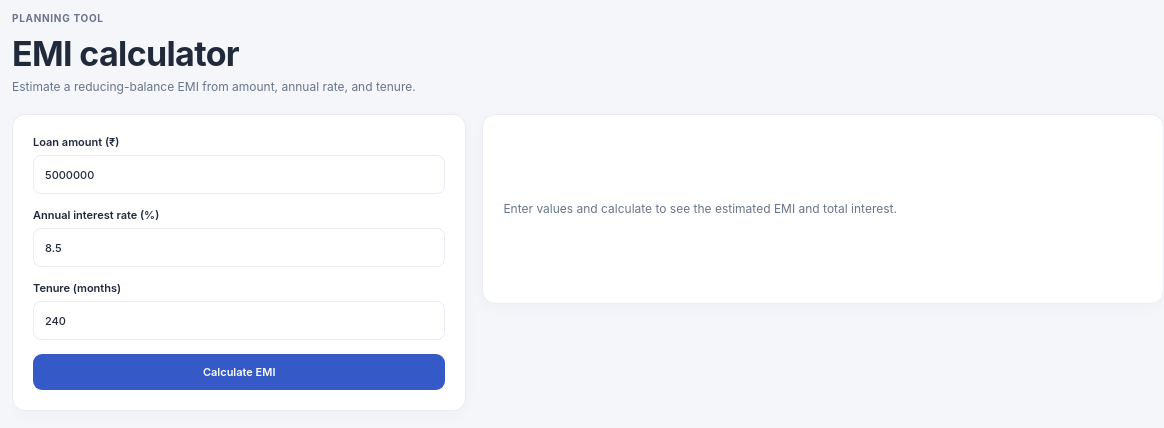
Test: planning tools › calculates the known EMI and total interest in the standalone calculator
This screenshot has width=1164, height=428.
Click the button "Calculate EMI" at [239, 372], box [33,354,445,390]
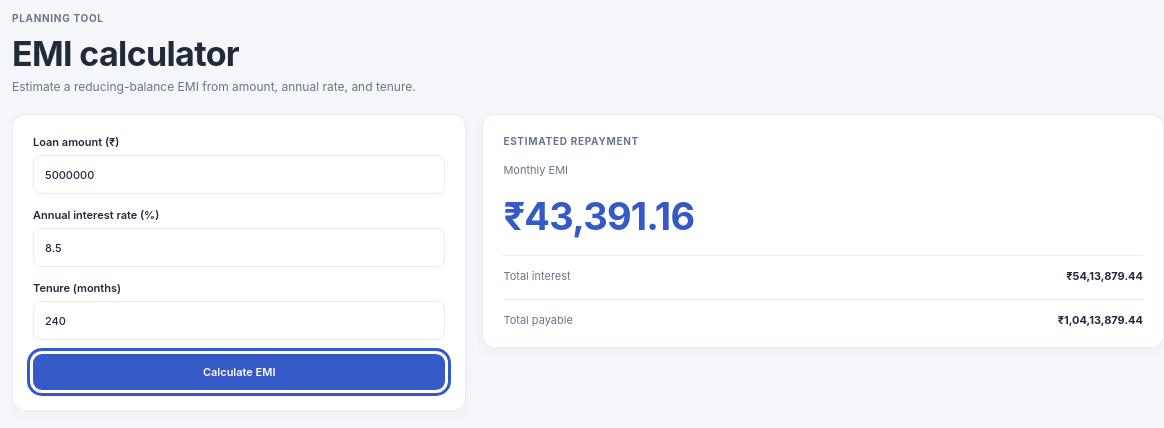
Expected: the text "₹43,391.16" is shown, [503,193,694,239]
Expected: the text "₹54,13,879.44" is shown, [1066,269,1143,283]
